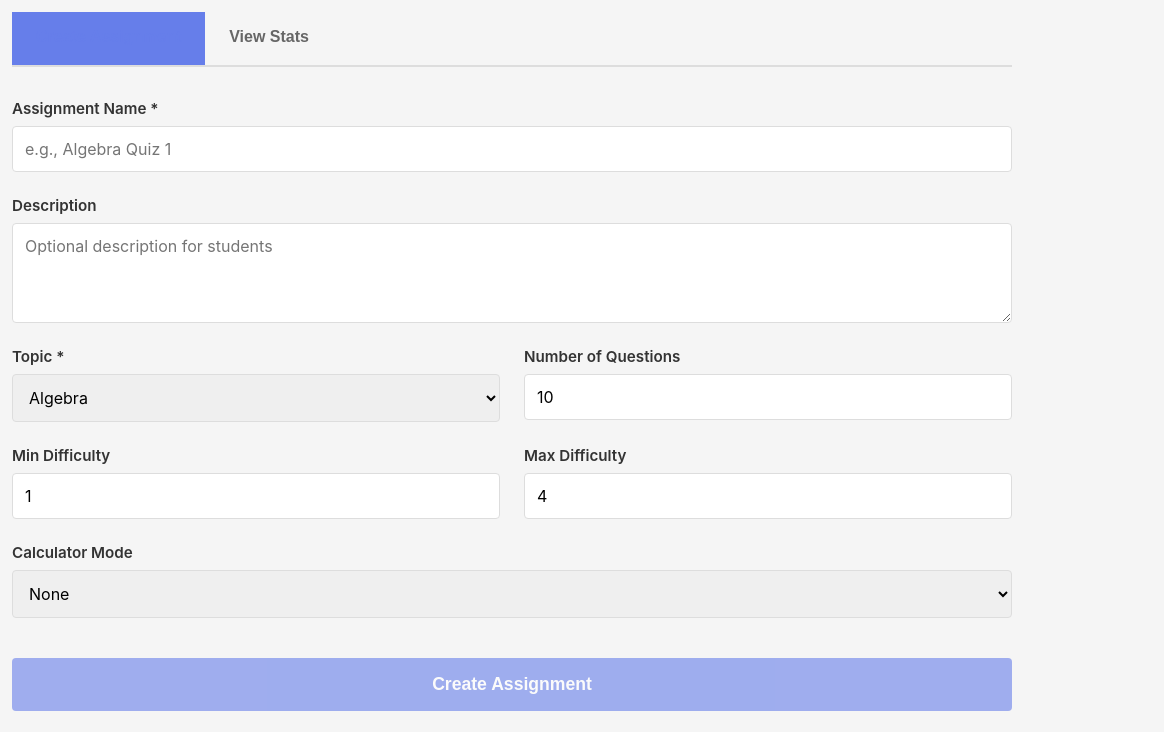
Scenario: TeacherAssignments Component › Stats Tab › displays error when stats fail to load
# Switch to stats tab
Click the button "View Stats": (269, 38) [205,12,333,65]
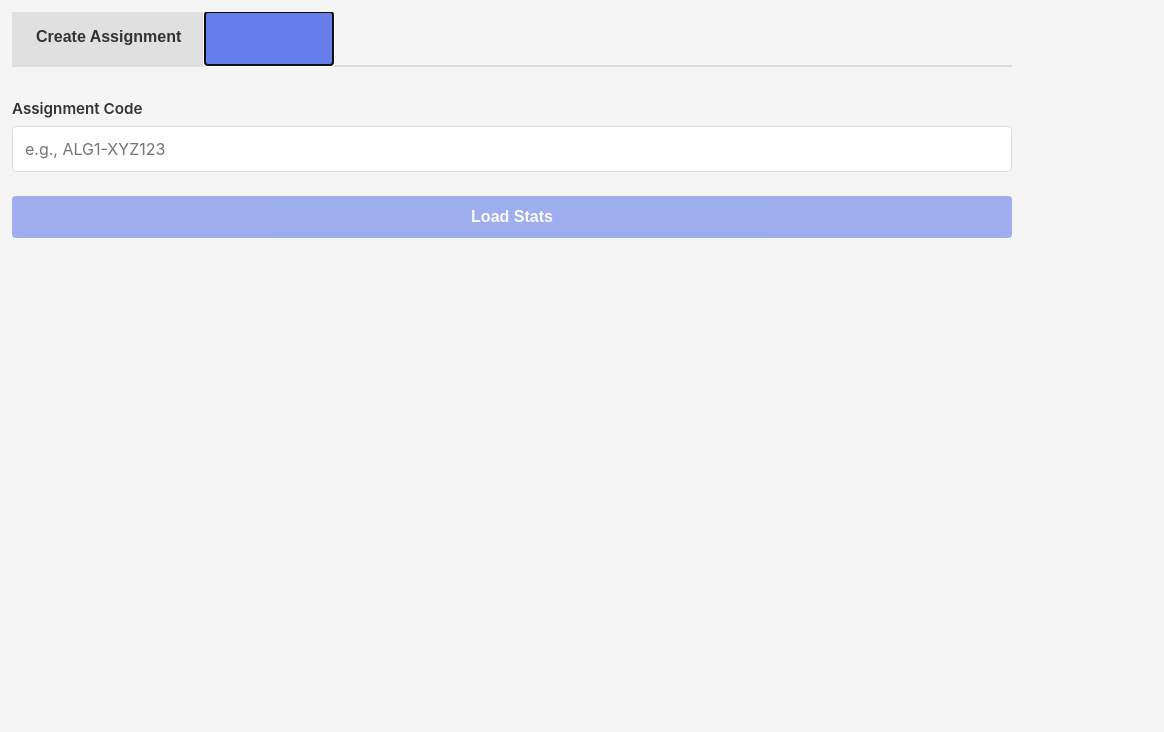
# Enter assignment code
In the field labelled "Assignment Code": (512, 149) [12,126,1012,172], type "INVALID-CODE"
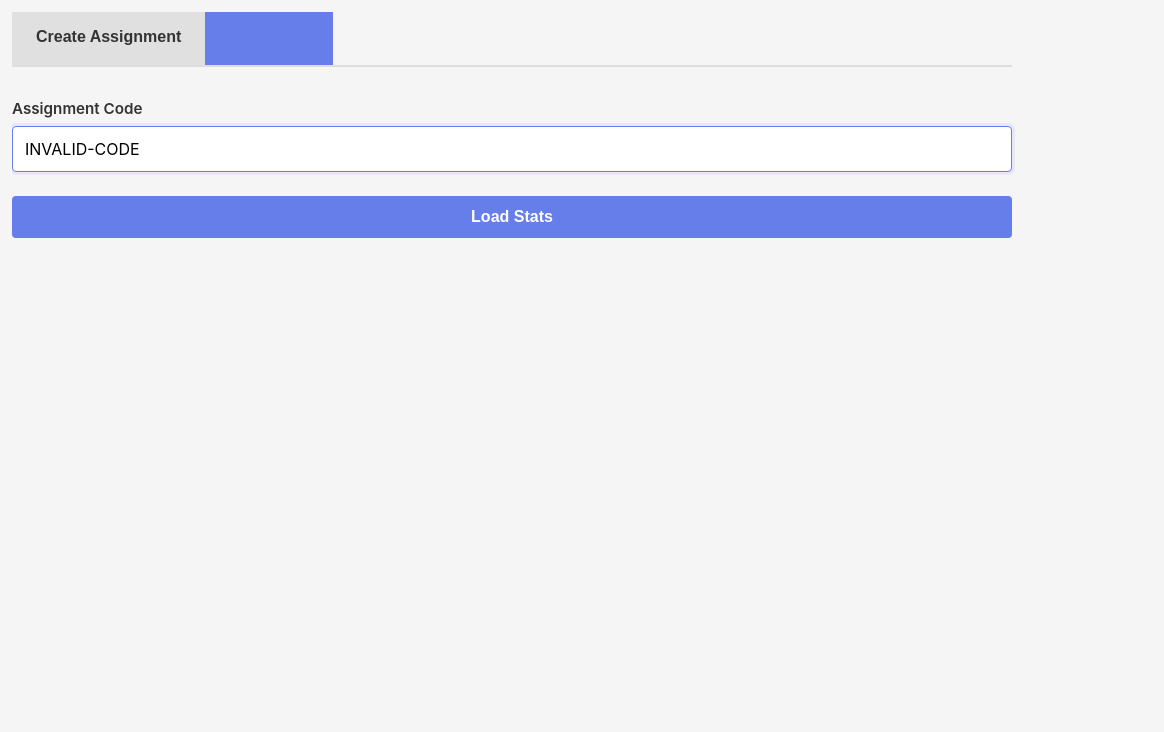
Click the button "Load Stats": (512, 217) [12,196,1012,238]
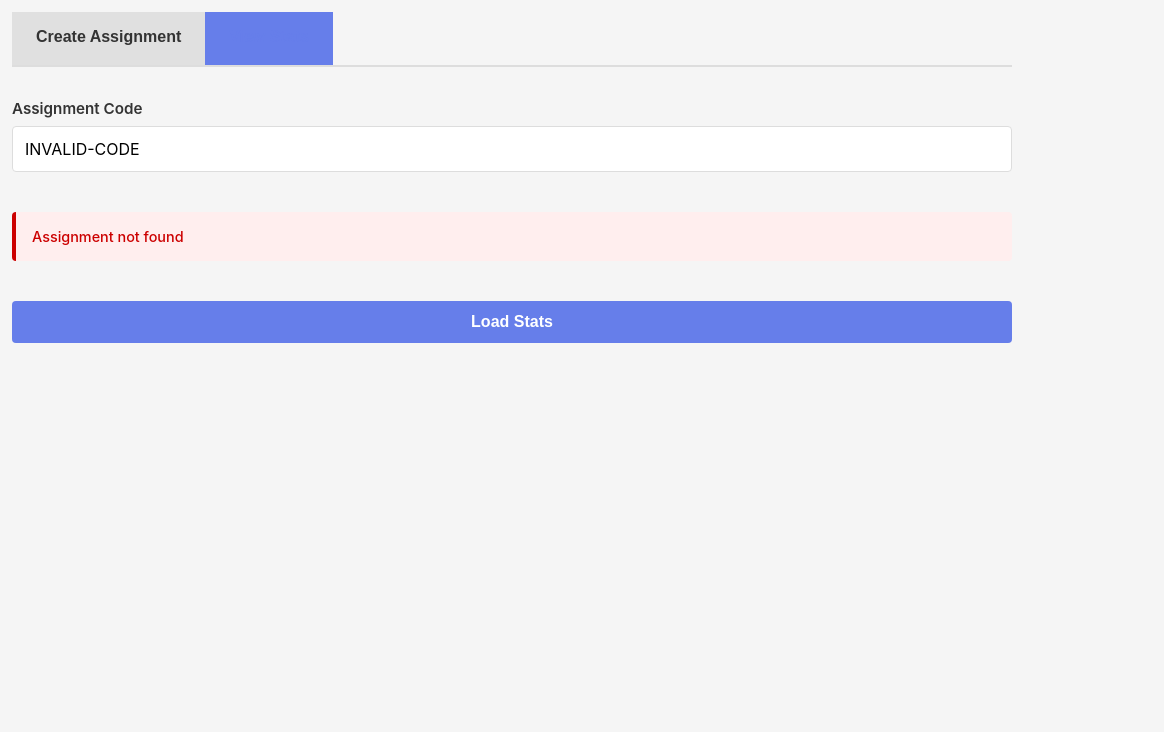
Now the text "Assignment not found" is shown, box [12,212,1012,261]
